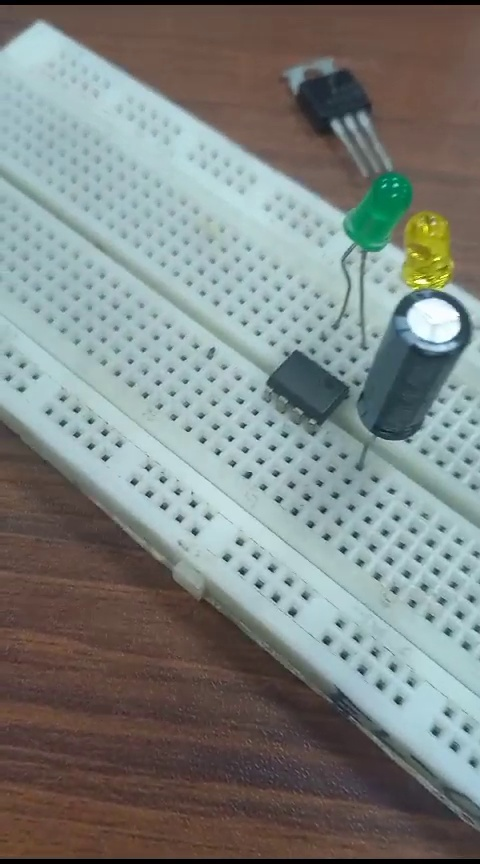IC: (264, 339, 351, 427)
LED: (335, 156, 406, 305), (406, 201, 459, 295)
capacitor: (360, 292, 470, 483)
voltage regulator: (262, 51, 407, 161)
